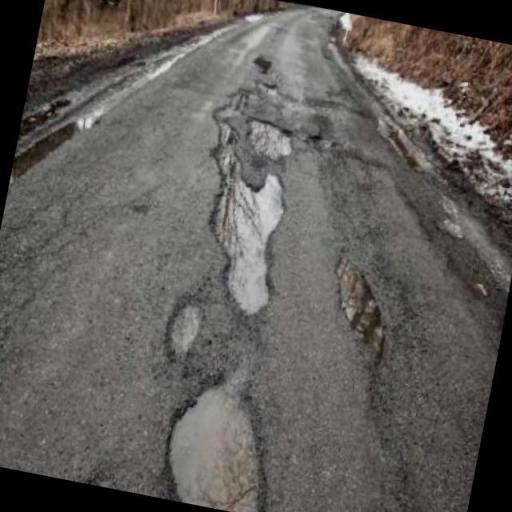pothole: (212, 91, 286, 316), (167, 386, 269, 512), (164, 288, 203, 370), (249, 120, 292, 158)
